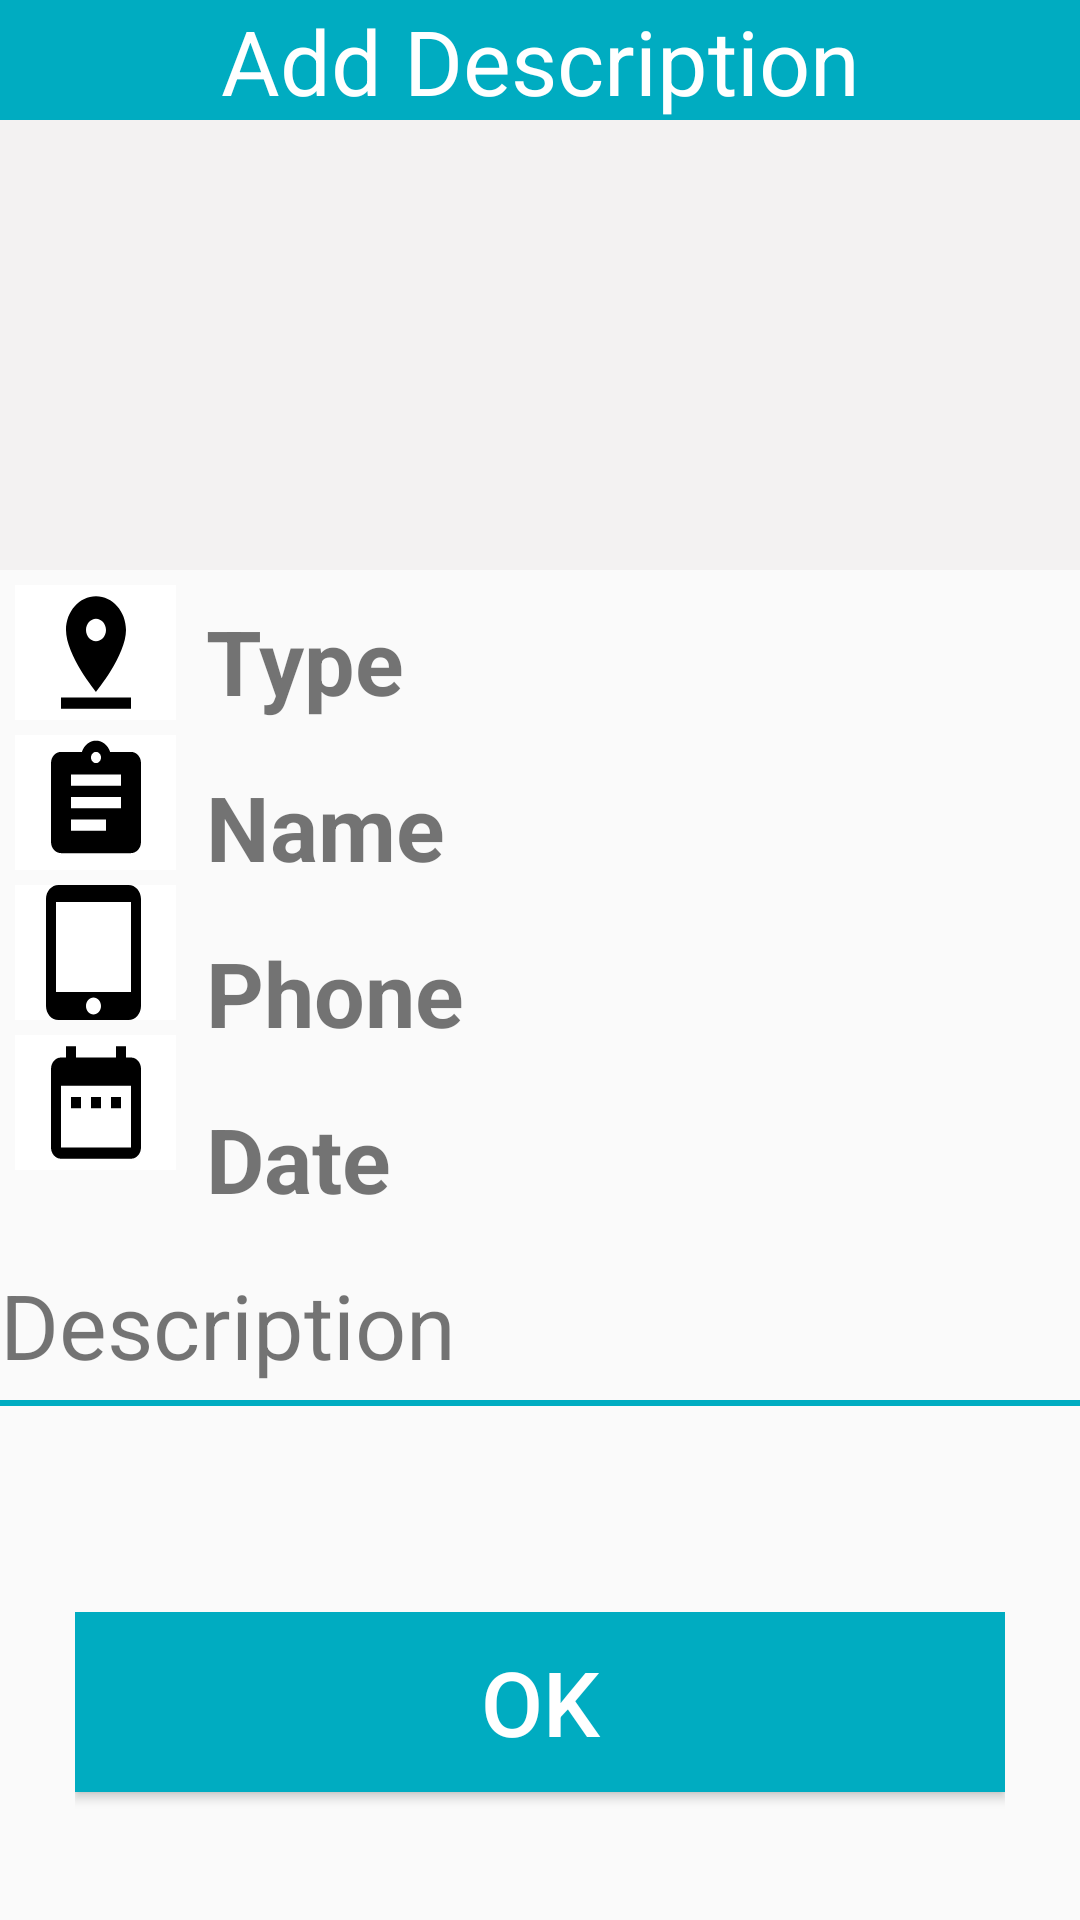

Named icons in this screenshot (1080 x 1920) and their centers, [x,y]:
assignment: [96,797]
pin drop: [96,652]
tablet mac: [93,952]
